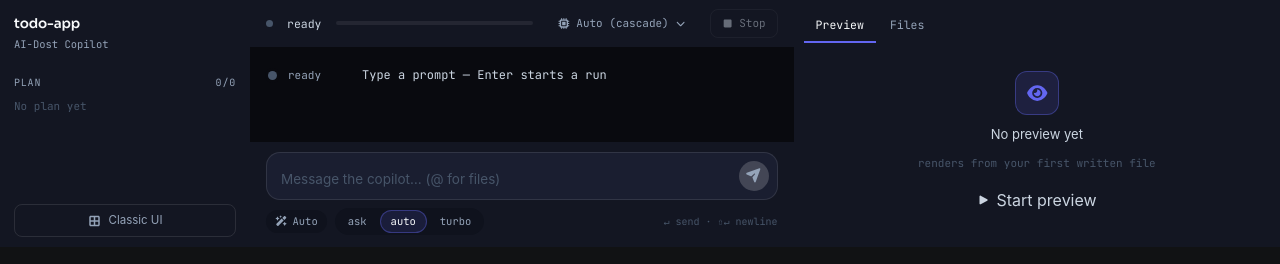
it: CopilotAurora (P11 A2 — real run wiring) › stage tabs switch between preview and files (empty before a run)
This screenshot has width=1280, height=264.
Check: the element with test id "aurora-preview" is shown, box [918,71,1156,219]
Click the tab with test id "stage-tab-files". click: (907, 26)
box: [878,8,936,43]
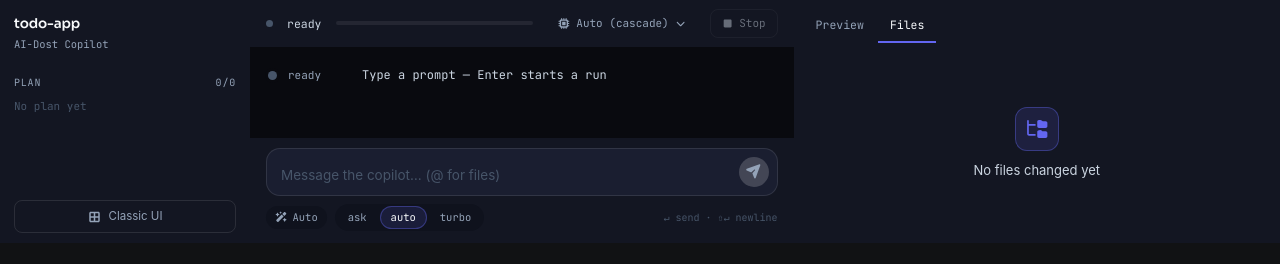
Check: the element with test id "aurora-files" is shown, box [974,106,1100,178]
Check: the text "No files changed yet" is shown, box [974,160,1100,180]
Click the tab with test id "stage-tab-preview". click: (840, 26)
box: [804,8,876,43]
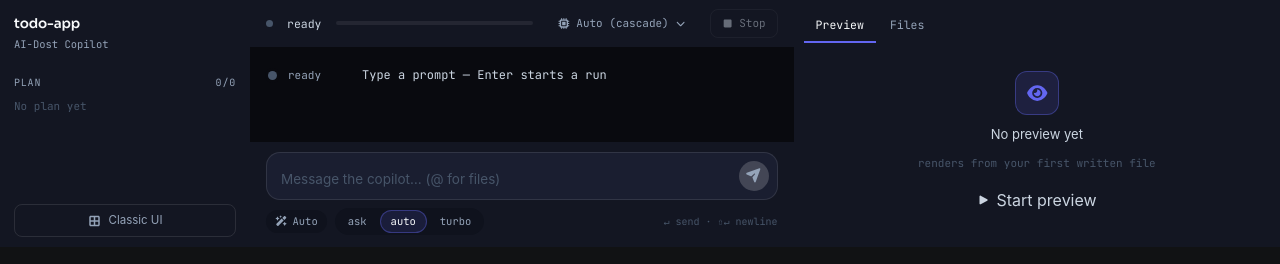
Check: the element with test id "aurora-preview" is shown, box [918,71,1156,219]
